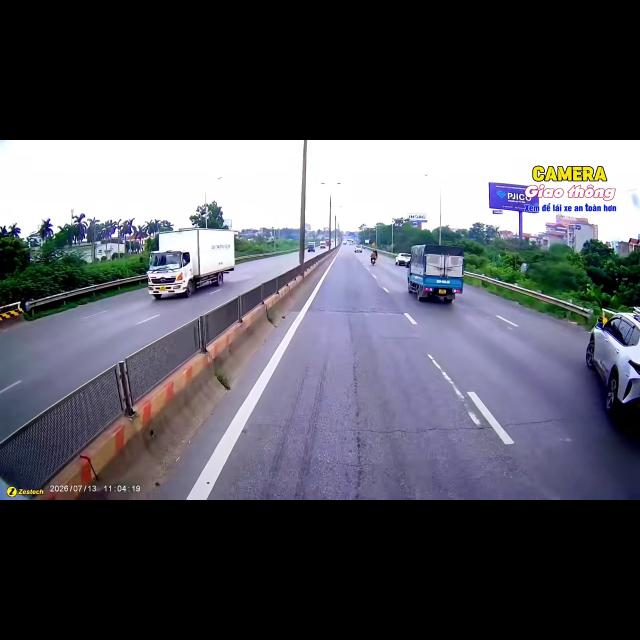car: (586, 307, 639, 416), (395, 253, 410, 265), (354, 245, 362, 252), (307, 244, 314, 251), (320, 243, 325, 248)
motorcycle: (371, 257, 377, 265), (371, 258, 375, 264)
truck: (147, 228, 235, 298), (406, 245, 464, 302)
